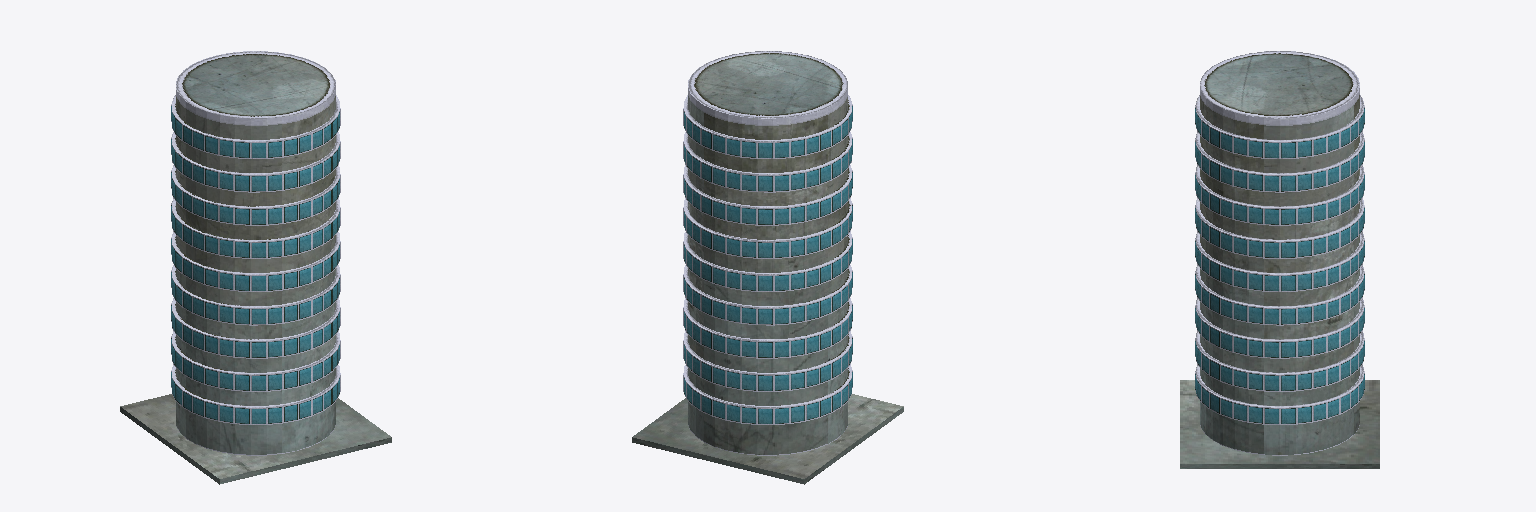
3 views of the same model, side by side, from view 1: azimuth 30°, elevation 25°; view 2: azimuth 150°, elevation 25°; view 3: azimuth 270°, elevation 25° (orthographic).
Parts seen in each view (by area): view 1: Cylinder.002_Cylinder.010; view 2: Cylinder.002_Cylinder.010; view 3: Cylinder.002_Cylinder.010.
Part boxes in pixels (x1,y1,x2,y2): Cylinder.002_Cylinder.010: (120, 51, 391, 484); Cylinder.002_Cylinder.010: (632, 51, 903, 484); Cylinder.002_Cylinder.010: (1180, 51, 1379, 468).
Size of the model in its own units: 3.58 by 6.79 by 3.58.
1 materials, 1 textured.